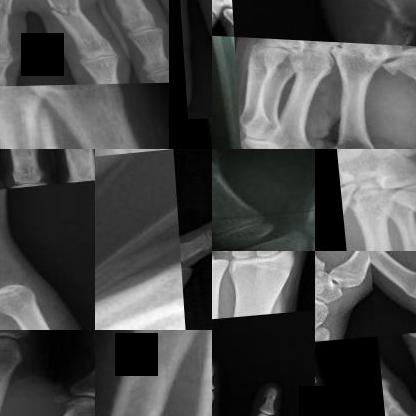fracture: (0, 104, 90, 148), (171, 330, 211, 415), (365, 0, 415, 45), (34, 0, 95, 28), (377, 48, 415, 78), (0, 0, 22, 24), (0, 296, 13, 327), (176, 242, 187, 277)
